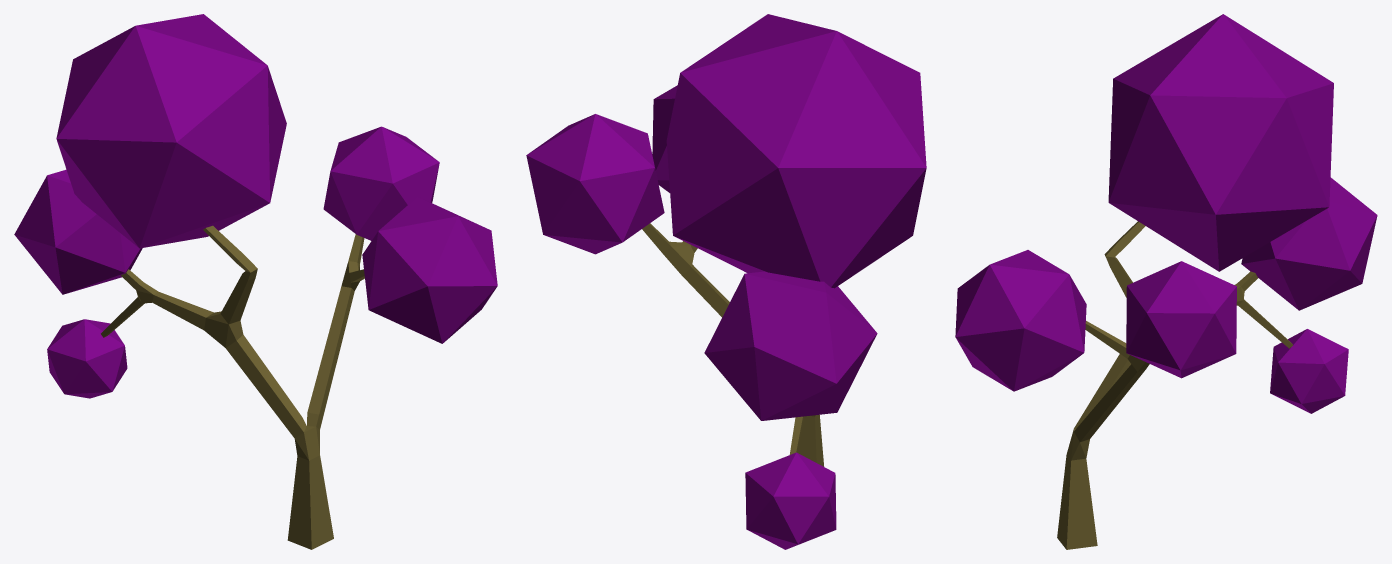
File: PohonWarnaUngu.fbx
3 views of the same model, side by side, from view 1: azimuth 30°, elevation 25°; view 2: azimuth 150°, elevation 25°; view 3: azimuth 270°, elevation 25° (orthographic). The views are drawn at different scales.
Parts seen in each view (by area): view 1: Icosphere.010; view 2: Icosphere.010; view 3: Icosphere.010.
Boxes of the visible parts, bbox=[...] form: Icosphere.010: bbox=[14, 14, 497, 549]; Icosphere.010: bbox=[526, 14, 926, 549]; Icosphere.010: bbox=[955, 14, 1377, 549].
Bounding box in the file's own units: 858 × 1126 × 898.
